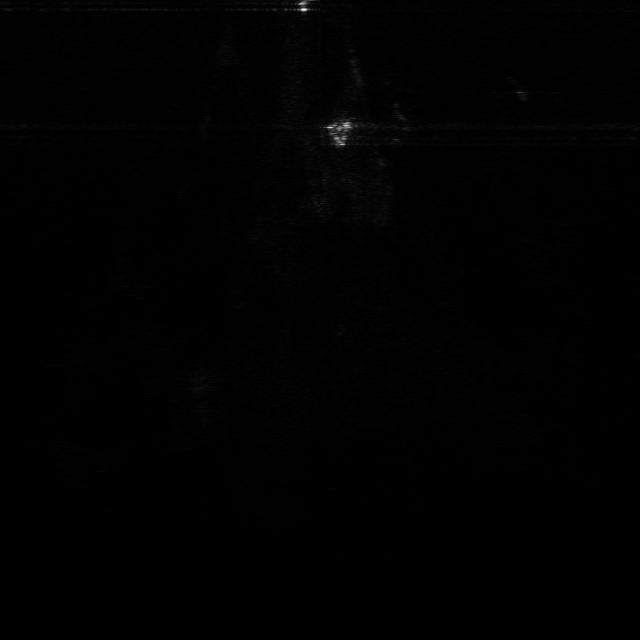rov: (320, 117, 358, 150)
